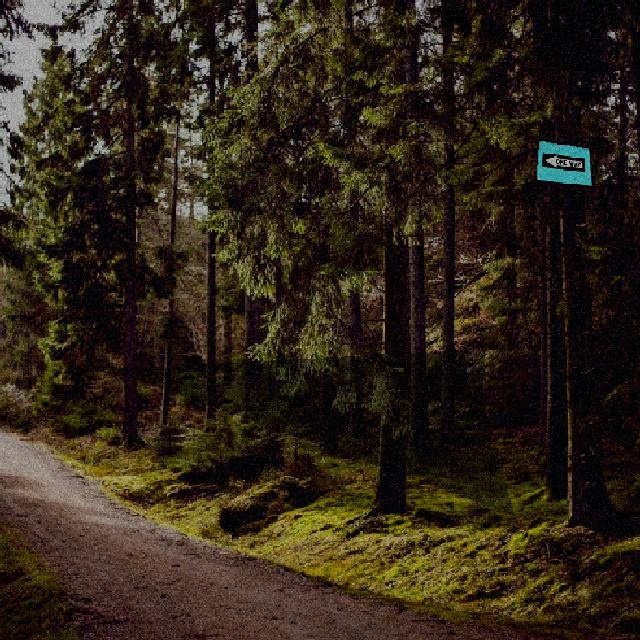ONE_WAY_ left: (540, 152, 586, 171)
